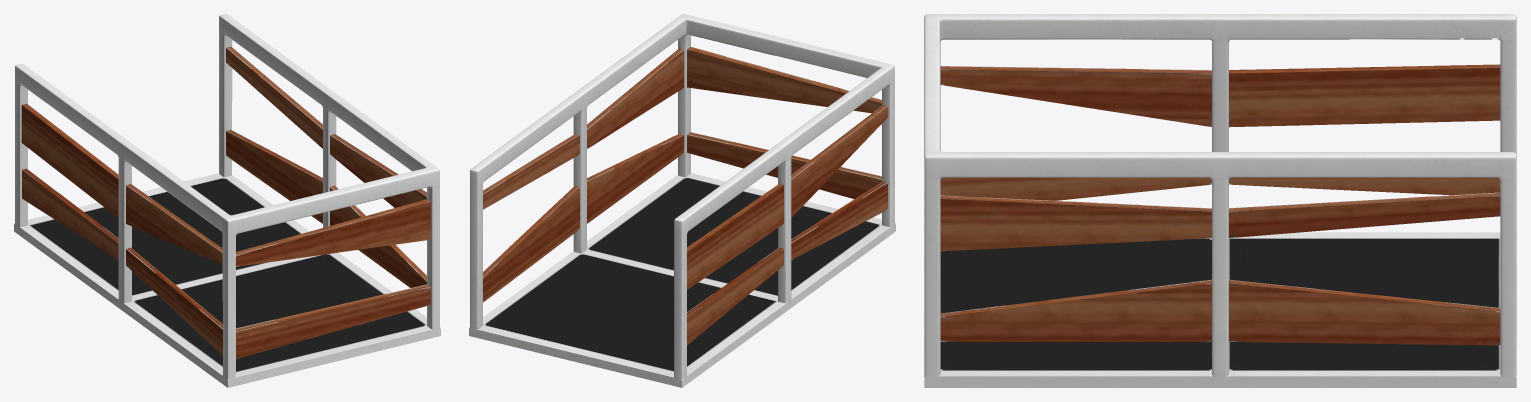
File: Ascenseur.glb
3 renders of one model, left to right at view 1: azimuth 30°, elevation 25°; view 2: azimuth 150°, elevation 25°; view 3: azimuth 270°, elevation 25°, orthographic. The views are drawn at different scales.
Parts seen in each view (by area): view 1: ascenseur_glen; view 2: ascenseur_glen; view 3: ascenseur_glen.
Boxes of the visible parts, x1,y1,x2,y2 form: ascenseur_glen: (14,14,440,387); ascenseur_glen: (469,14,895,387); ascenseur_glen: (924,14,1516,387).
Size of what is drawn, in the model's own units: 1.41 by 1.05 by 2.45.
Materials: 1 (1 with a texture image).
